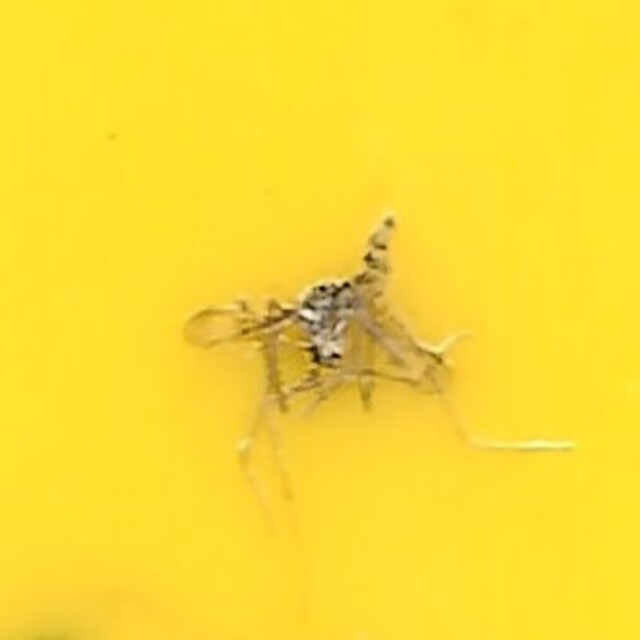Nematocera: (182, 212, 458, 428)
